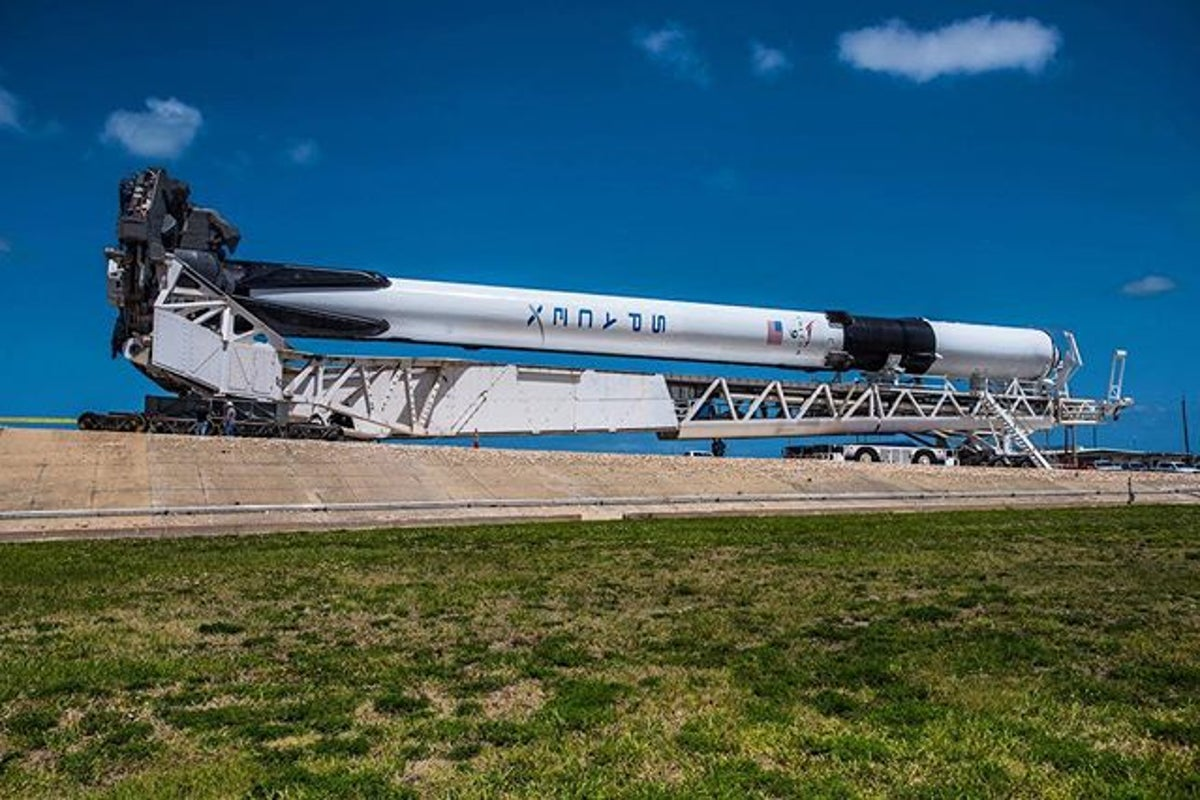falcon: (99, 158, 1135, 396)
